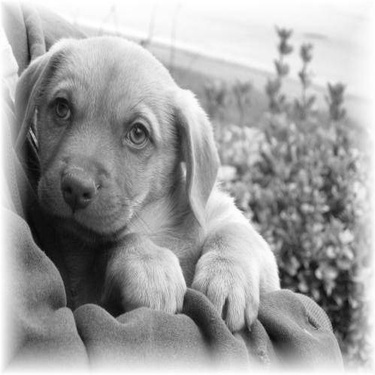dog: (11, 25, 283, 337)
